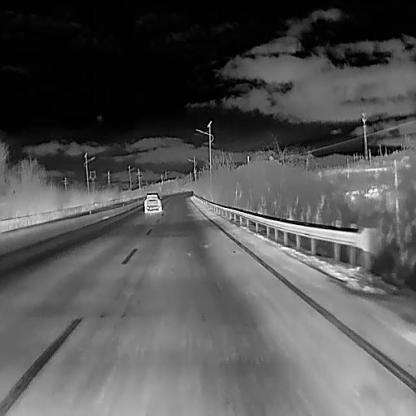car: (143, 192, 162, 211)
